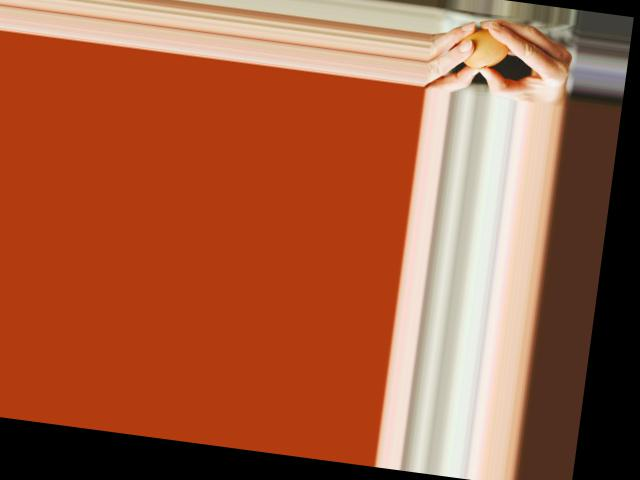egg: (456, 25, 510, 72)
